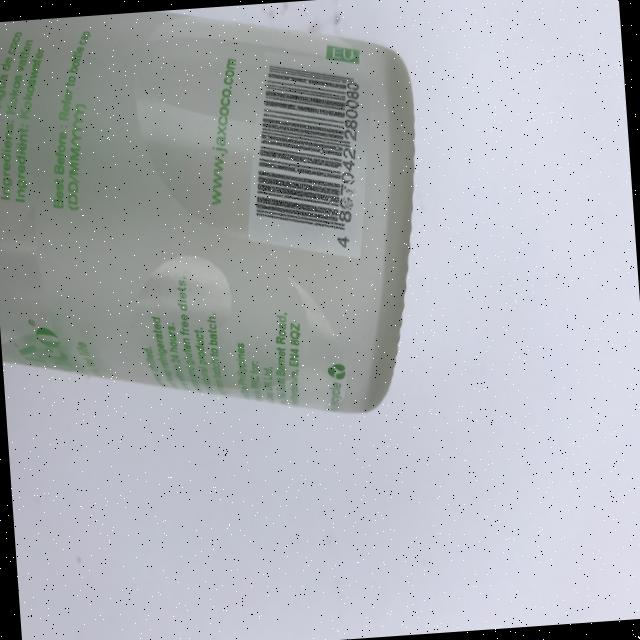glass: (0, 0, 435, 438)
